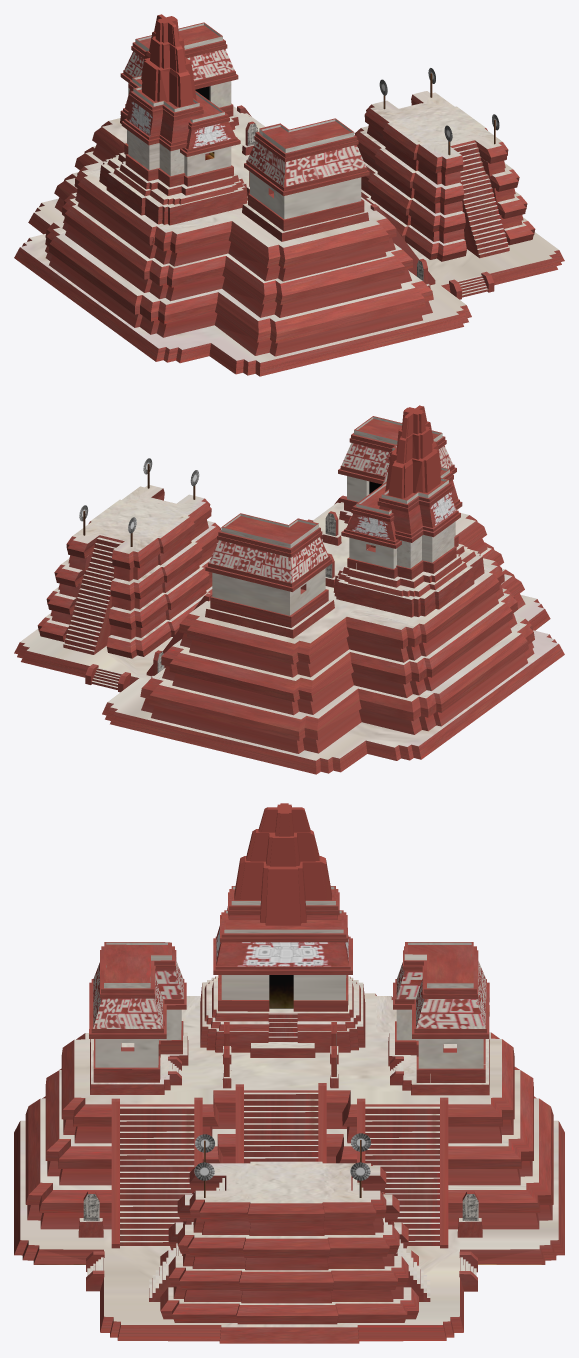
File: observatorio_2.dae
The picture shows the model from 3 angles, top to bottom: view 1: azimuth 30°, elevation 25°; view 2: azimuth 150°, elevation 25°; view 3: azimuth 270°, elevation 25°; orthographic projection. The views are drawn at different scales.
Parts seen in each view (by area): view 1: obser_2; view 2: obser_2; view 3: obser_2.
Boxes of the visible parts, box(x1,y1,x2,y2) form: obser_2: box(14, 14, 564, 376); obser_2: box(14, 405, 564, 774); obser_2: box(14, 803, 564, 1343).
Size of the model in its own units: 30.83 by 28.87 by 19.37.
1 material, 1 textured.
